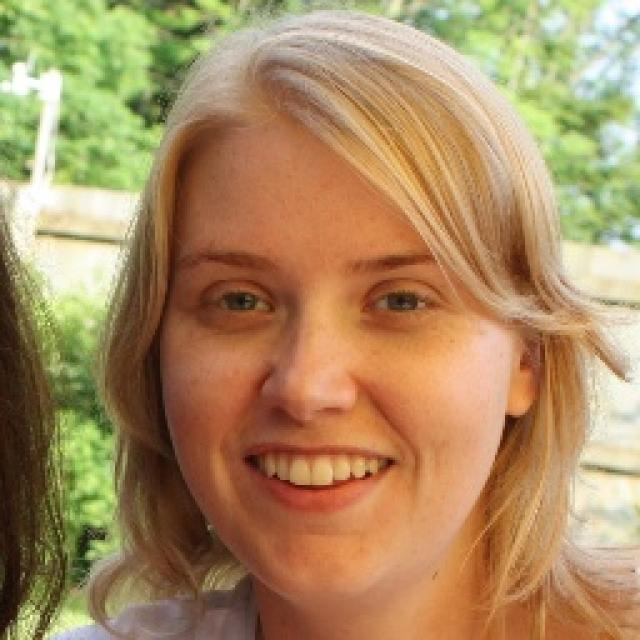earlobe: (504, 366, 540, 417)
eye: (201, 283, 277, 317), (364, 286, 441, 318)
nose: (254, 396, 364, 466)
